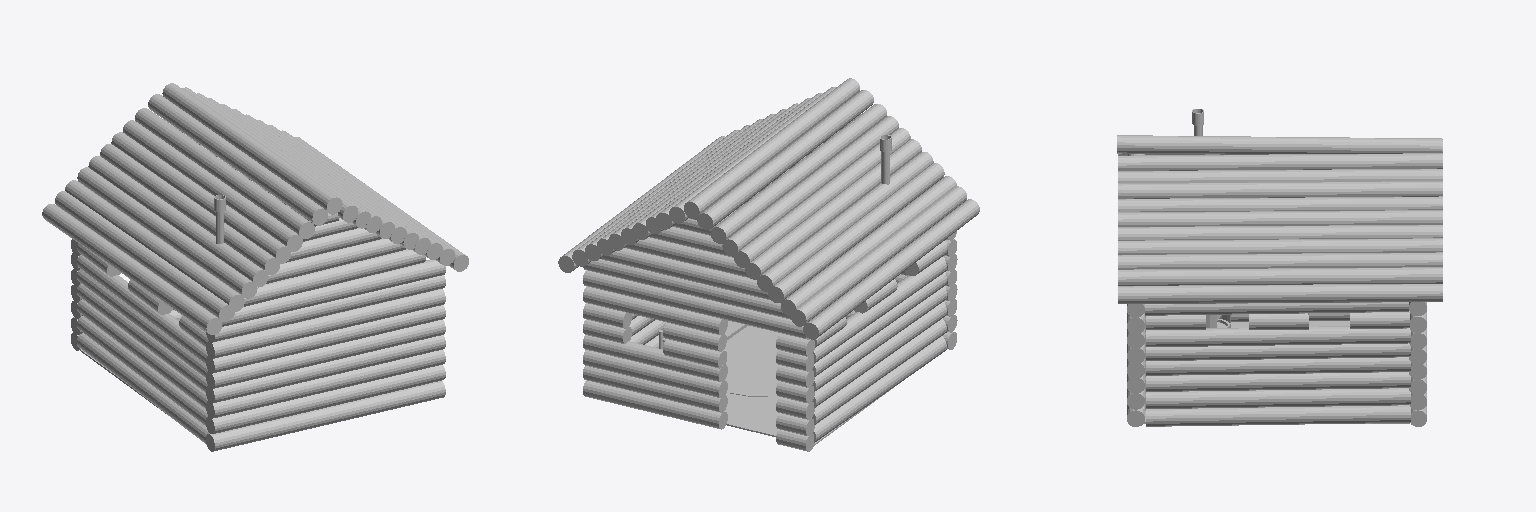
The model's file is cabin.obj.
3 renders of one model, left to right at view 1: azimuth 30°, elevation 25°; view 2: azimuth 150°, elevation 25°; view 3: azimuth 270°, elevation 25°, orthographic.
Parts seen in each view (by area): view 1: polySurface48; view 2: polySurface48, pCylinder73; view 3: polySurface48, pCylinder78.
Boxes of the visible parts, box(x1,y1,x2,y2) form: polySurface48: box(42, 83, 468, 451); polySurface48: box(558, 78, 979, 451); pCylinder73: box(723, 326, 779, 396); polySurface48: box(1117, 135, 1442, 426); pCylinder78: box(1192, 109, 1230, 327).
Size of the model in its own units: 8.07 by 6.9 by 8.61.